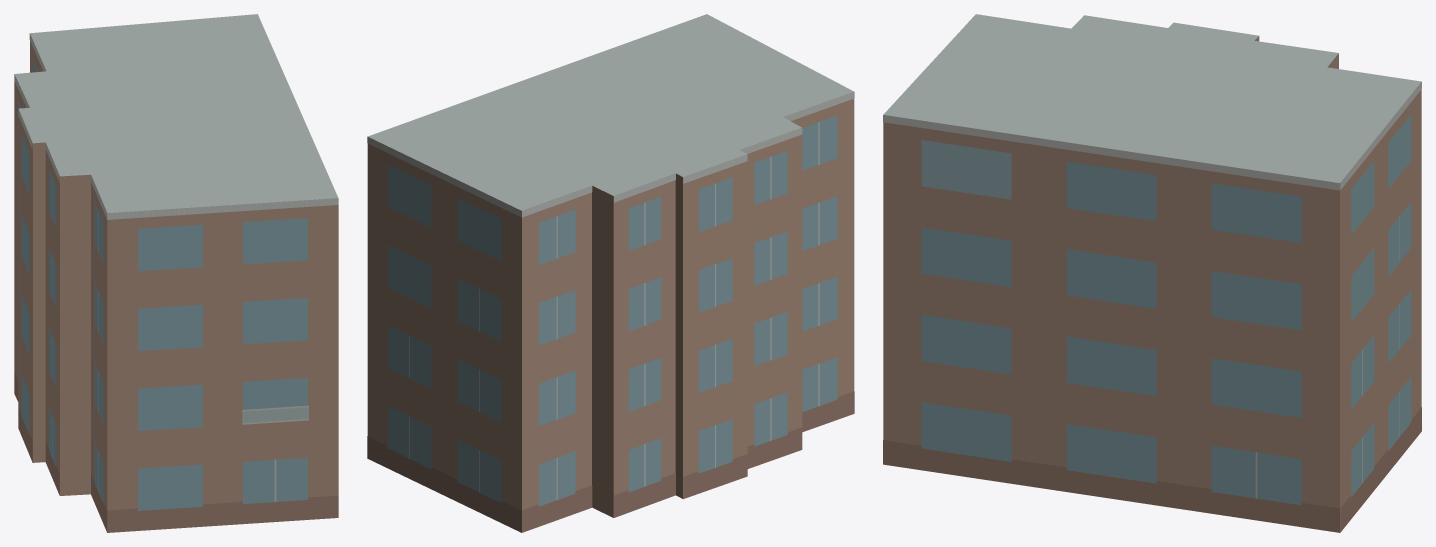
File: survey-upis-32993696.glb
3 views of the same model, side by side, from view 1: azimuth 30°, elevation 25°; view 2: azimuth 150°, elevation 25°; view 3: azimuth 270°, elevation 25° (orthographic). The views are drawn at different scales.
Visible parts, largest first — view 1: survey-upis-32993696.tmp; view 2: survey-upis-32993696.tmp; view 3: survey-upis-32993696.tmp.
Part boxes in pixels (bbox=[...]): survey-upis-32993696.tmp: bbox=[14, 14, 338, 532]; survey-upis-32993696.tmp: bbox=[367, 14, 854, 532]; survey-upis-32993696.tmp: bbox=[883, 14, 1421, 532].
Size of the model in its own units: 12.05 by 11.6 by 16.21.
